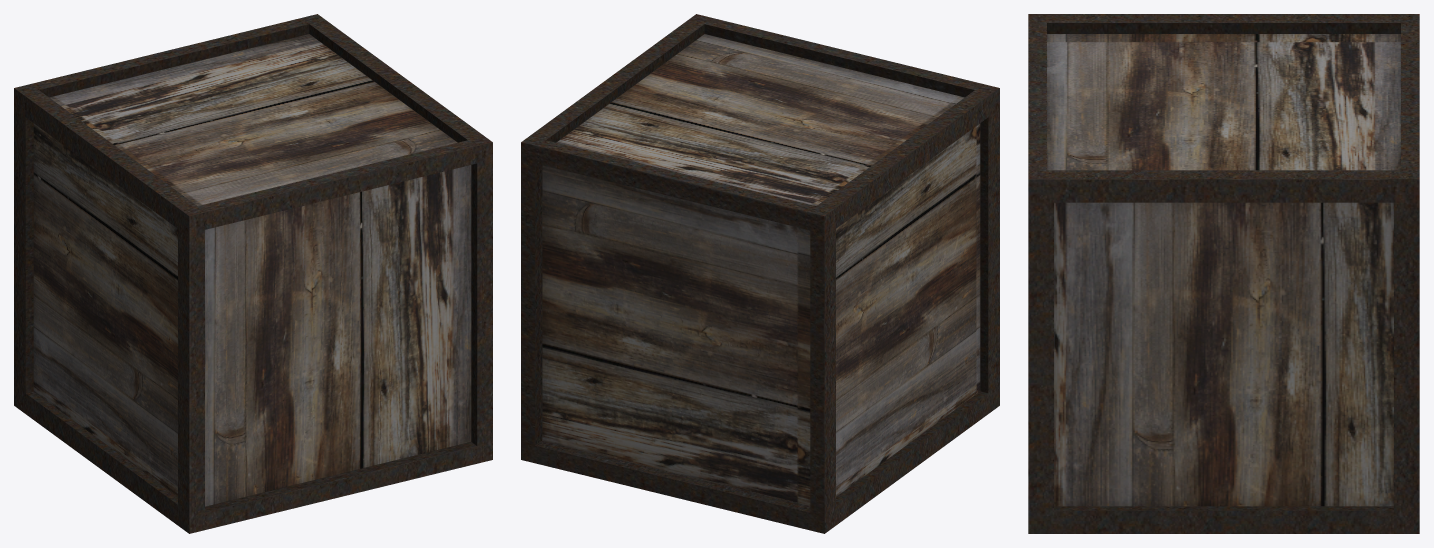
The model's file is Balmora_Crate.obj.
3 renders of one model, left to right at view 1: azimuth 30°, elevation 25°; view 2: azimuth 150°, elevation 25°; view 3: azimuth 270°, elevation 25°, orthographic. The views are drawn at different scales.
Visible parts, largest first — view 1: Cube_Cube.003; view 2: Cube_Cube.003; view 3: Cube_Cube.003.
Part boxes in pixels (bbox=[...]): Cube_Cube.003: bbox=[14, 14, 492, 533]; Cube_Cube.003: bbox=[521, 14, 999, 533]; Cube_Cube.003: bbox=[1028, 14, 1419, 533].
Bounding box in the file's own units: 2 × 2 × 2.
Materials: 1 (1 with a texture image).
